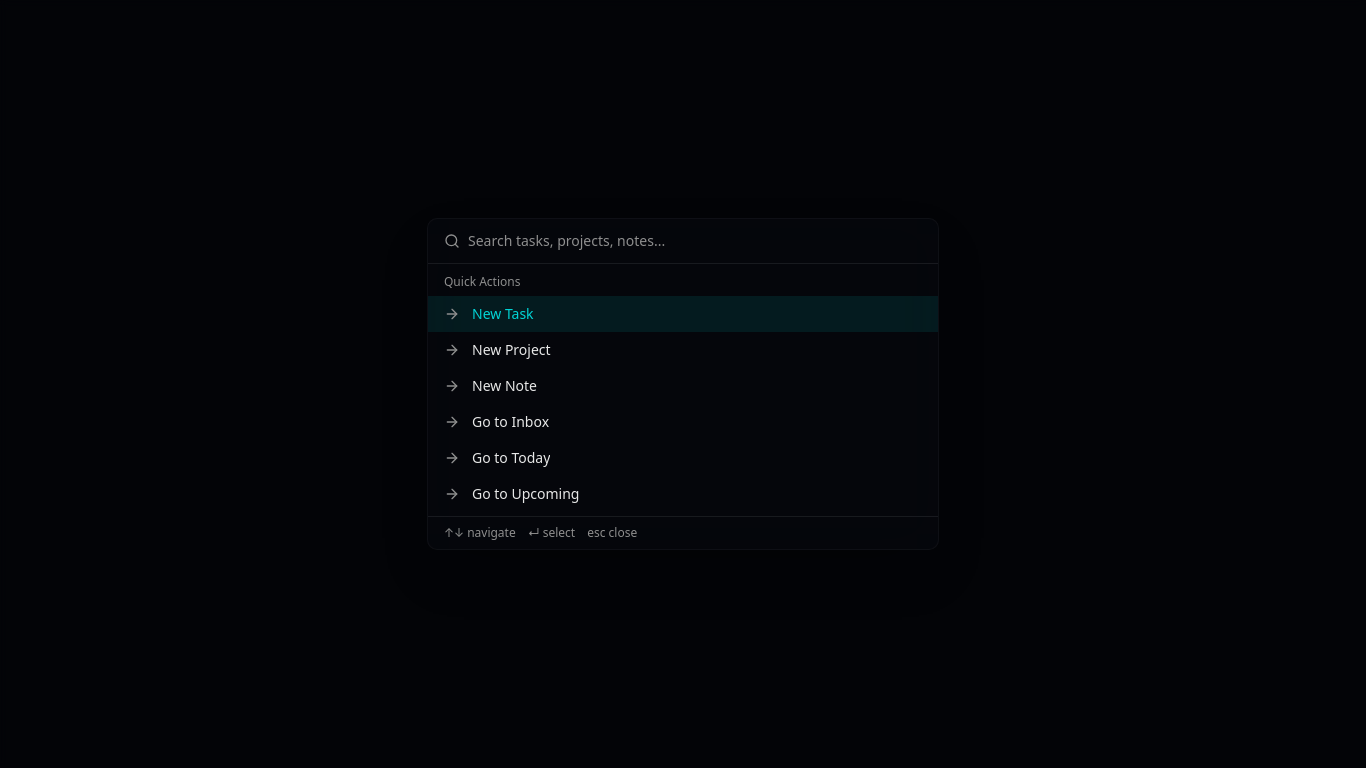
Test: CommandPalette › typing in search filters notes by title
Type "Meeting" into the field with placeholder "Search tasks, projects, notes..." at coordinates (695, 241), box x1=468 y1=231 x2=922 y2=251
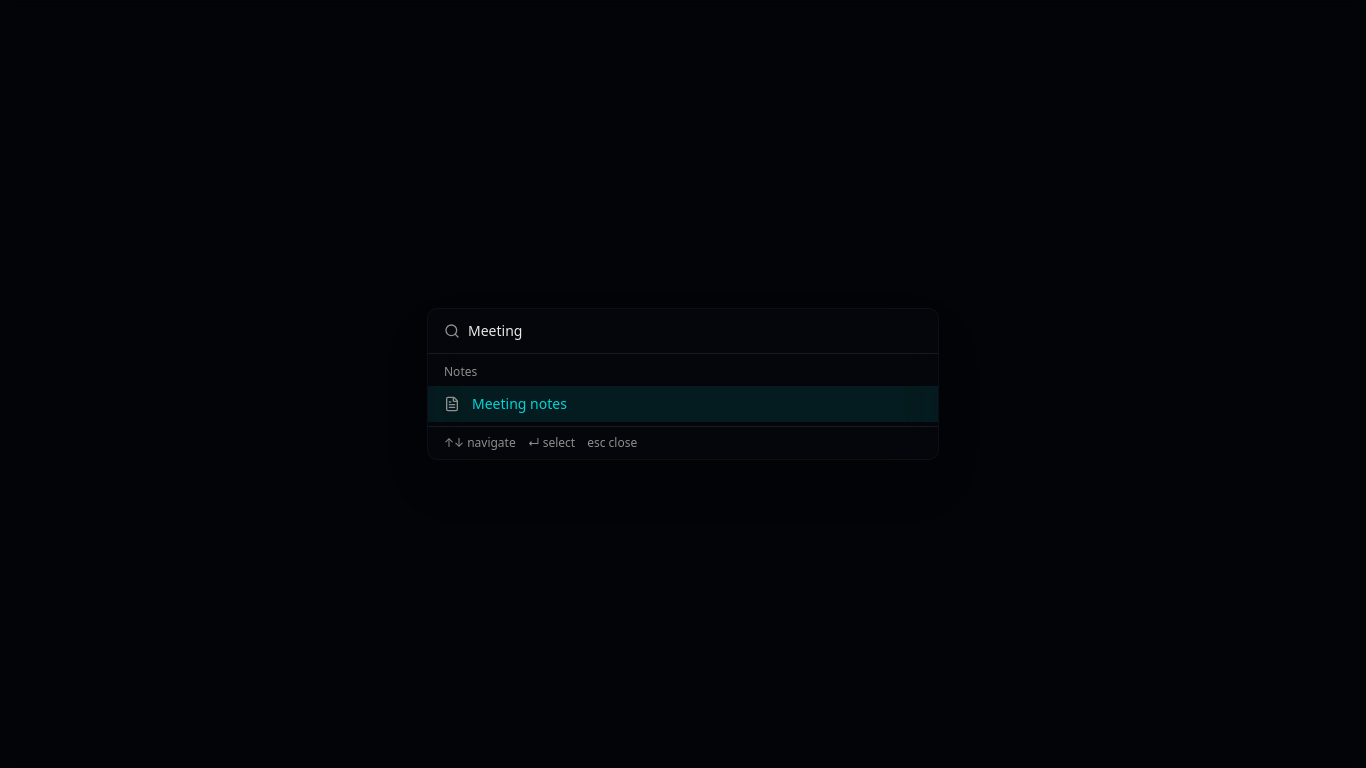
Check: the text "Meeting notes" is shown, box x1=472 y1=394 x2=567 y2=414
